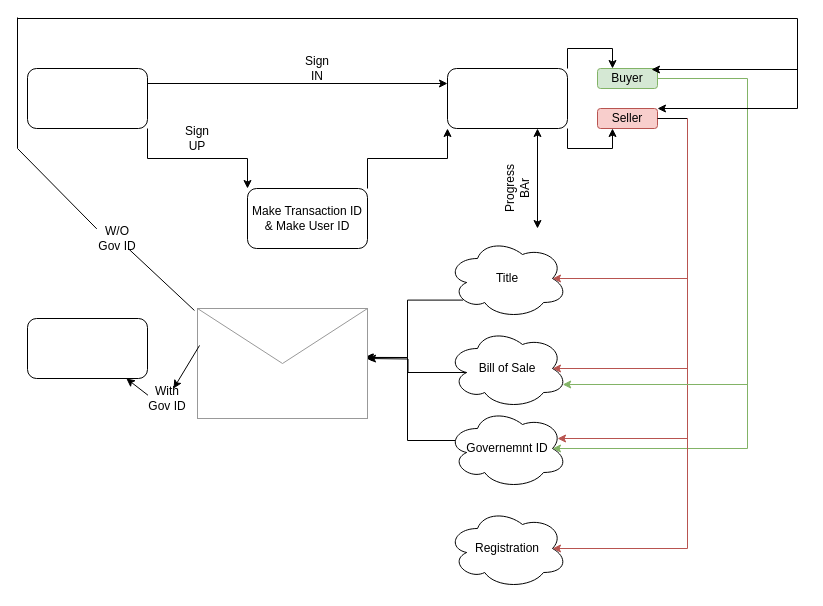
This 823x606 diagram has some shape labels left out. The shapes that lost their labels are listed below. From the top down, each one's centre as x and y in pixels, then its label:
point (87, 98): Sign Up Sign In
point (507, 98): User Dashboard
point (87, 348): DMV
